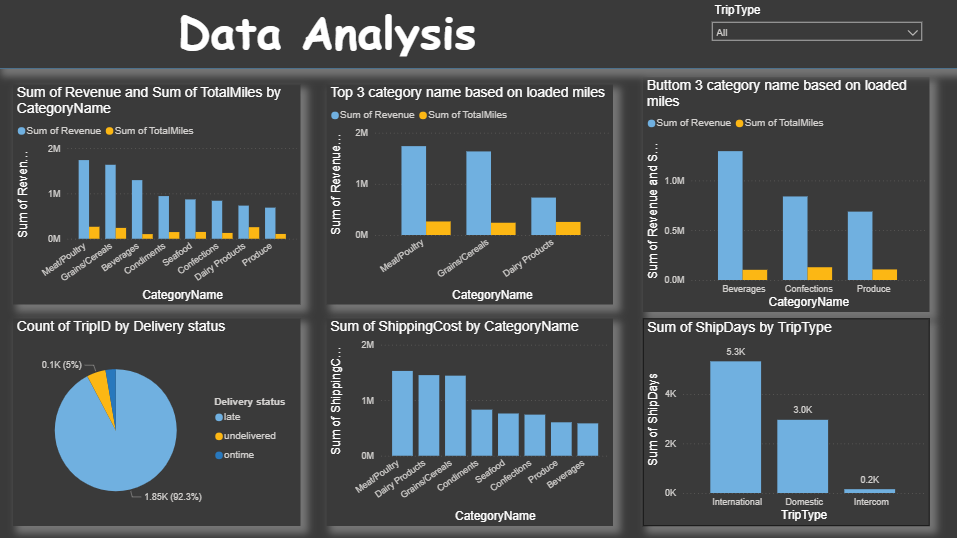

What the dashboard file says about the page in this screenshot:
{"tool":"powerbi","page":{"name":"data analysis ","canvas":[1280,720],"ordinal":1},"visuals":[{"type":"clusteredColumnChart","fields":{"Category":["Categories.CategoryName"],"Y":["Sum(Trips.Revenue)","Sum(Trips.TotalMiles)"]},"box":[20,113.3,383.3,293.3],"z":0},{"type":"clusteredColumnChart","title":"Top 3 category name based on loaded miles ","fields":{"Category":["Categories.CategoryName"],"Y":["Sum(Trips.Revenue)","Sum(Trips.TotalMiles)"]},"box":[438.3,113.3,381.7,293.3],"z":1000},{"type":"clusteredColumnChart","title":"Buttom 3 category name based on loaded miles ","fields":{"Category":["Categories.CategoryName"],"Y":["Sum(Trips.Revenue)","Sum(Trips.TotalMiles)"]},"box":[860,103.3,381.7,313.3],"z":2000},{"type":"pieChart","fields":{"Category":["Trips.Delivery status"],"Y":["CountNonNull(Trips.TripID)"]},"box":[20,426.7,383.3,276.7],"z":3000},{"type":"clusteredColumnChart","fields":{"Category":["Categories.CategoryName"],"Y":["Sum(Trips.ShippingCost)"]},"box":[438.3,426.7,381.7,276.7],"z":4000},{"type":"clusteredColumnChart","fields":{"Category":["Trips.TripType"],"Y":["Sum(Trips.ShipDays)"]},"box":[860,426.7,381.7,276.7],"z":5000},{"type":"shape","box":[0,0,1280,93.3],"z":6000},{"type":"card","fields":{"Values":["Trips.Data Analysis"]},"box":[100,0,676.7,81.7],"z":7000},{"type":"slicer","fields":{"Values":["Trips.TripType"]},"box":[941.7,0,300,81.7],"z":8000}]}

Visuals, with their boxes in screenshot pixels (x1, y1, x2, y2), scaled from the page's 1280x720 canvas onto the 957x538 screenshot:
clusteredColumnChart - Categories.CategoryName x Sum(Trips.Revenue): 15:85:302:304
"Top 3 category name based on loaded miles " clusteredColumnChart: 328:85:613:304
"Buttom 3 category name based on loaded miles " clusteredColumnChart: 643:77:928:311
pieChart - Trips.Delivery status x CountNonNull(Trips.TripID): 15:319:302:526
clusteredColumnChart - Categories.CategoryName x Sum(Trips.ShippingCost): 328:319:613:526
clusteredColumnChart - Trips.TripType x Sum(Trips.ShipDays): 643:319:928:526
shape: 0:0:956:70
card - Trips.Data Analysis: 75:0:581:61
slicer - Trips.TripType: 704:0:928:61
